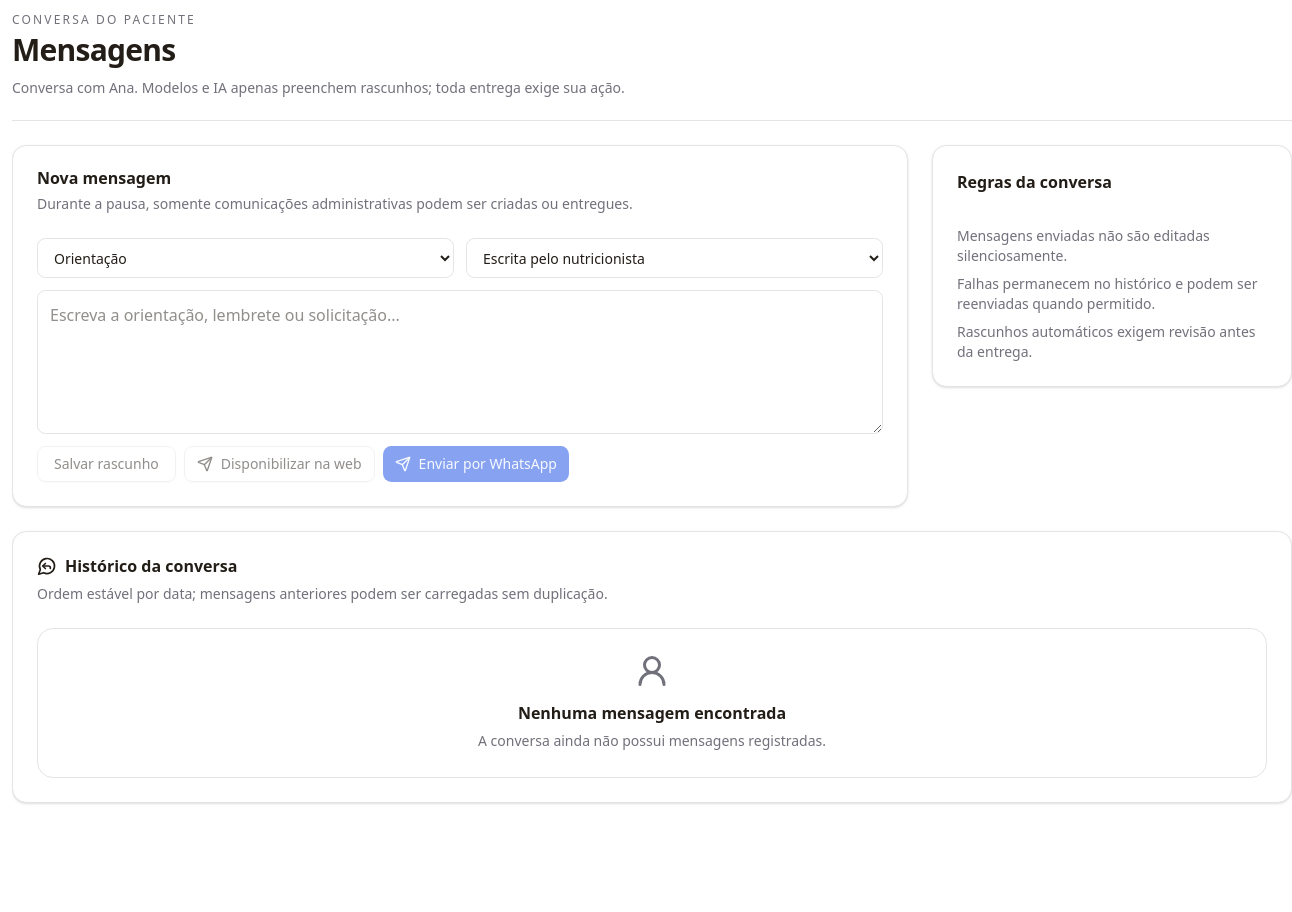
Test: ProfessionalMessagesExperience › allows only administrative drafts while tracking is paused
Step 1. Type "Contato durante a pausa" into the text box named "Conteúdo da mensagem" → (460, 362), box [37,290,883,434]
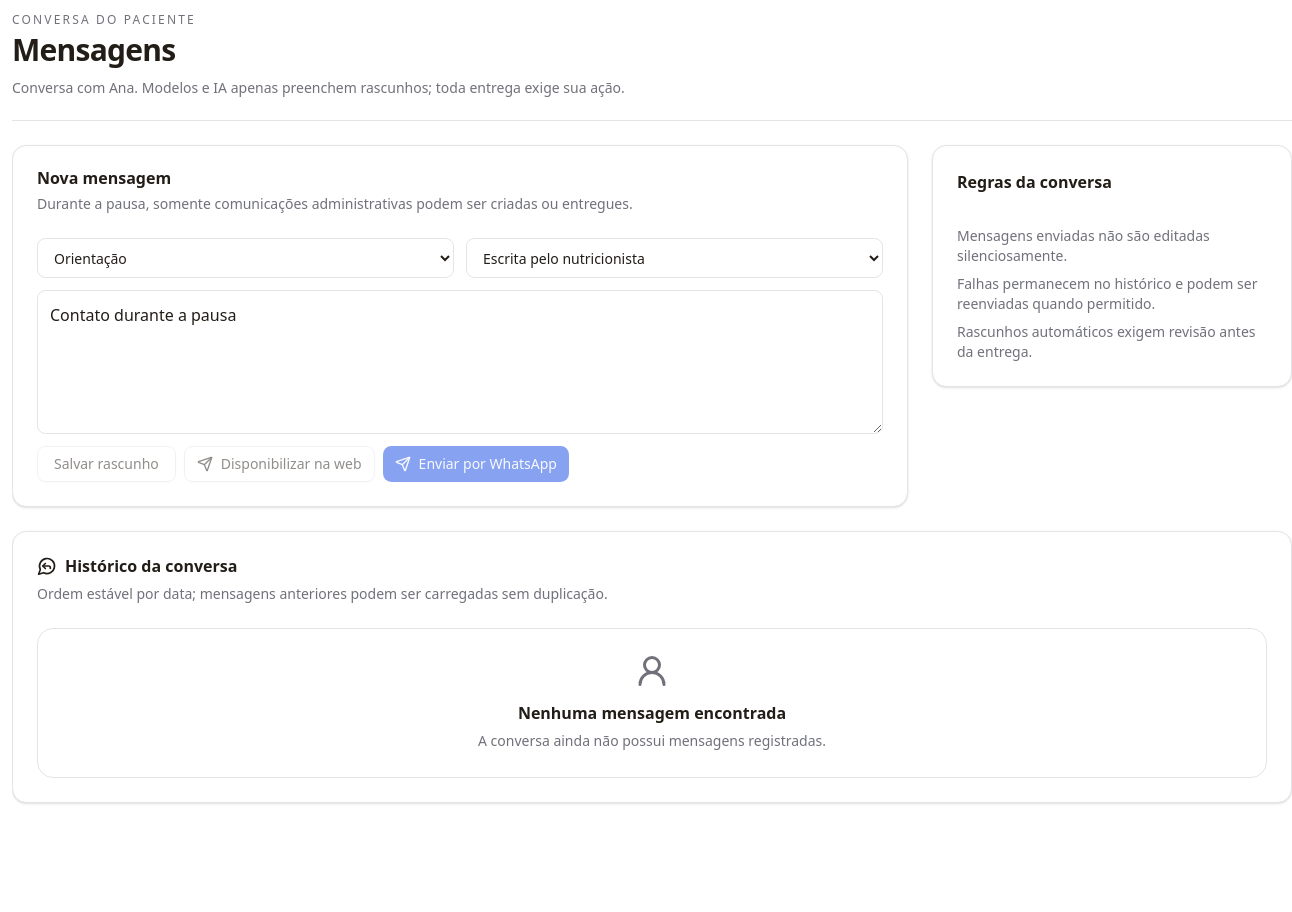
Check: the button "Salvar rascunho" is disabled, box [37,446,176,482]
Step 2. Select "Administrativa" in the dropdown named "Tipo da mensagem" → (246, 258), box [37,238,454,278]
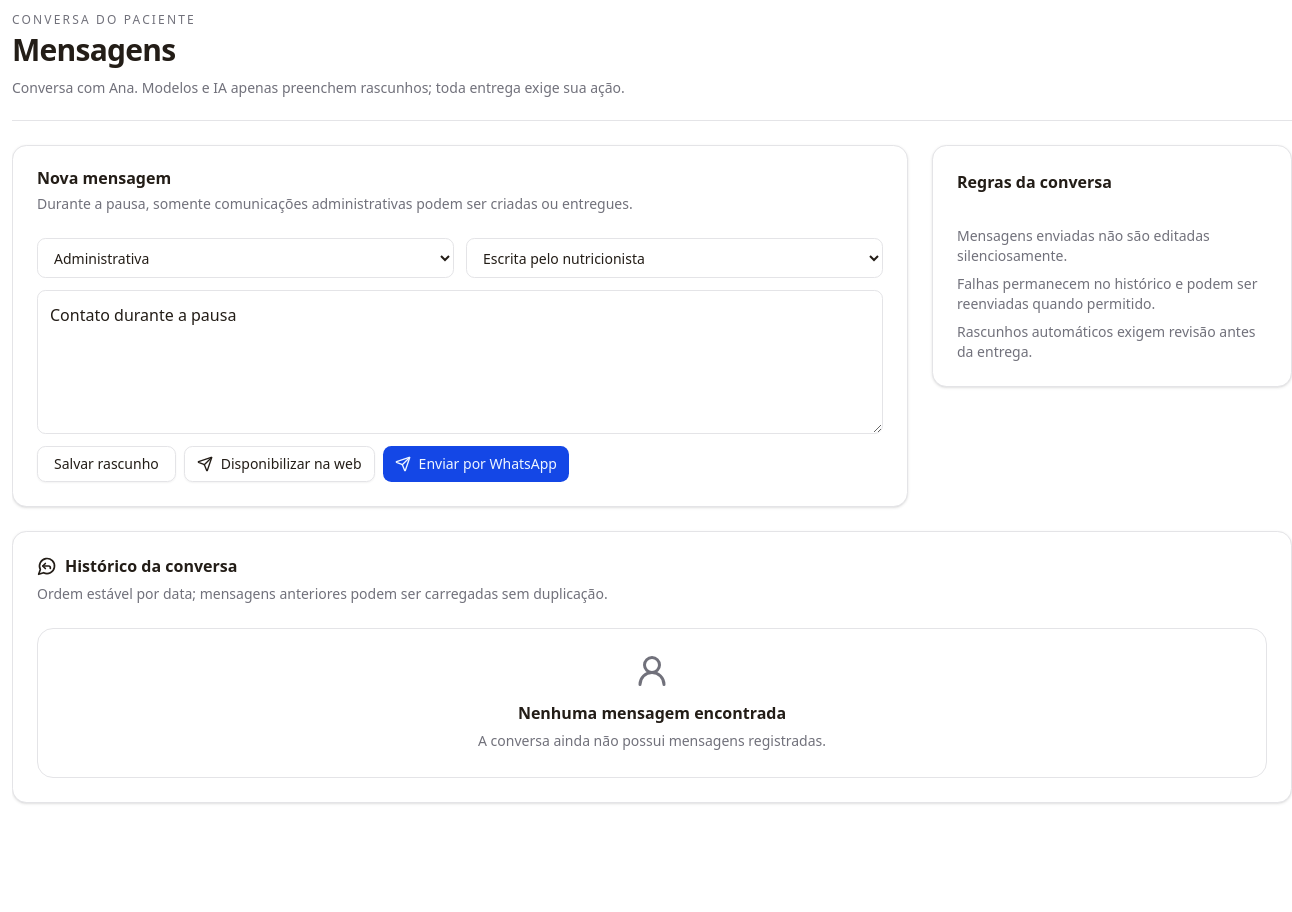
Check: the button "Salvar rascunho" is enabled, box [37,446,176,482]
